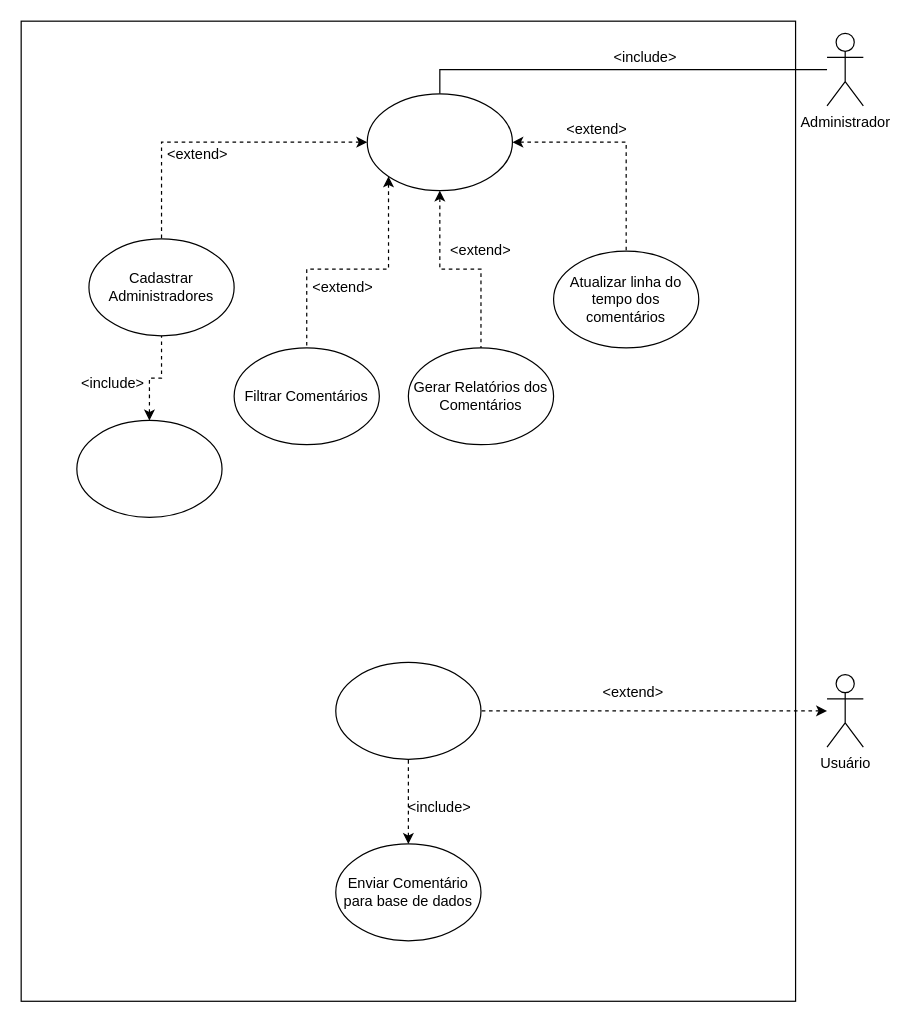
The diagram is 911 pixels wide and 1022 high, and some of its shapes have lost their labels. Here are the shapes that lost their labels. From the top down, the centre of each, then its label:
At (439,142): "Autenticar acesso".
At (149,468): "Realizar registro na base de dados".
At (408,710): "Comentar observação/opinião".
